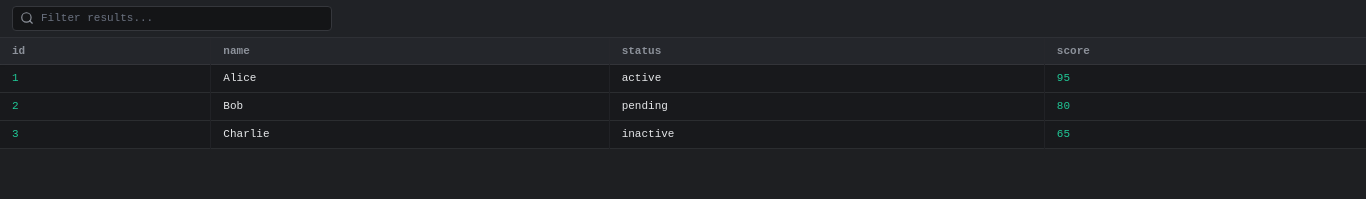
Test case: EditableDataGrid component › tracks dirty cells and renders mutation bar on edit commit
Double-click the text "Alice".
double_click(410, 79)  # box [211,65,609,93]
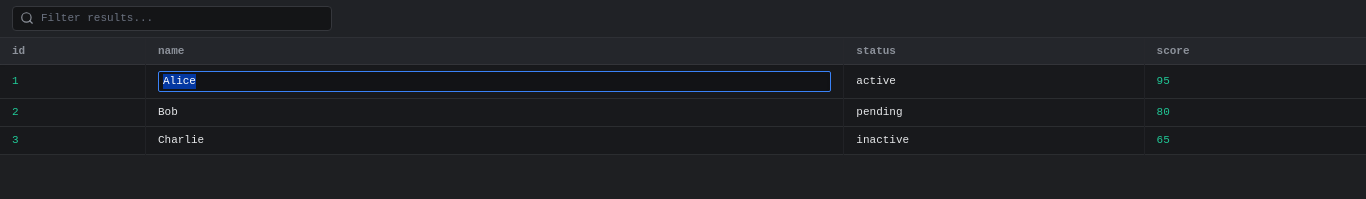
Replace the text in the field showing "Alice" with "Alicia" at (495, 82), box [158,71,831,92]
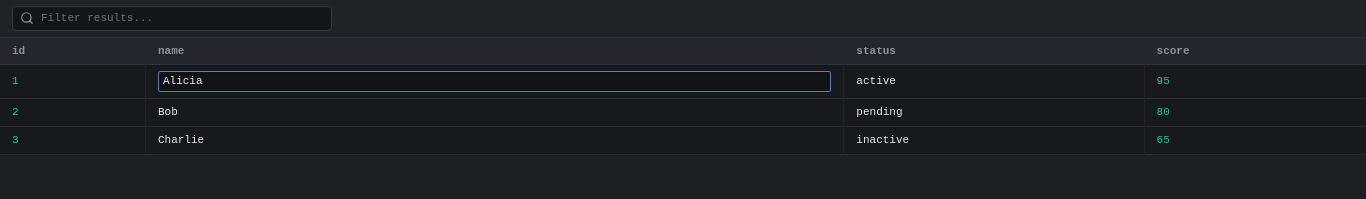
Leave the field showing "Alice", box [158,71,831,92]
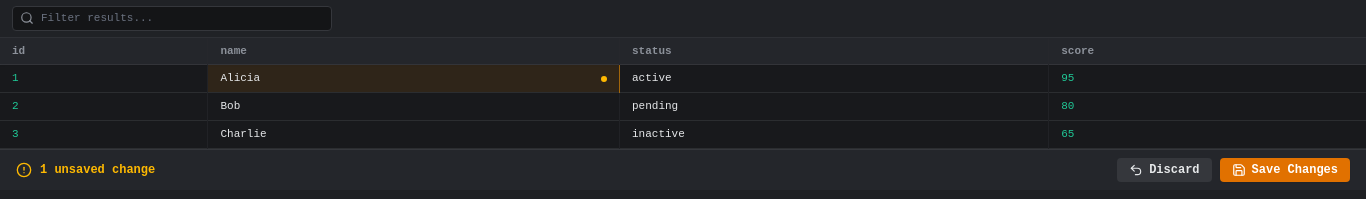
Now the text "Alicia" is shown, box [220,72,260,84]
Now the text "1 unsaved change" is shown, box [40,162,155,178]
